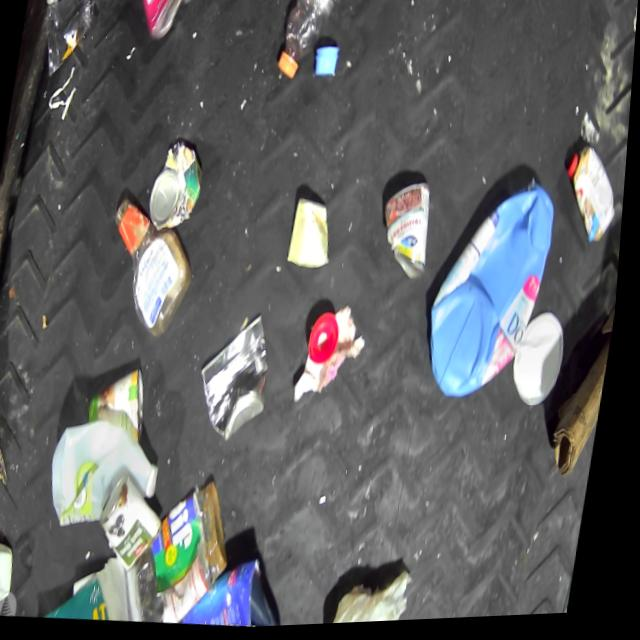can: (195, 310, 284, 449), (98, 470, 177, 575), (376, 182, 441, 288), (146, 138, 210, 234)
milk_jug: (47, 414, 172, 536)
non_white_jug: (421, 176, 563, 409)
plastic_bottle: (273, 0, 342, 85)
